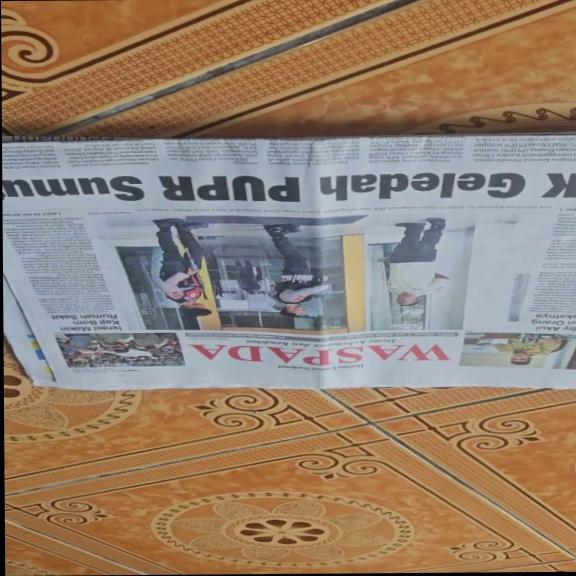Kertas: (14, 138, 576, 391)
